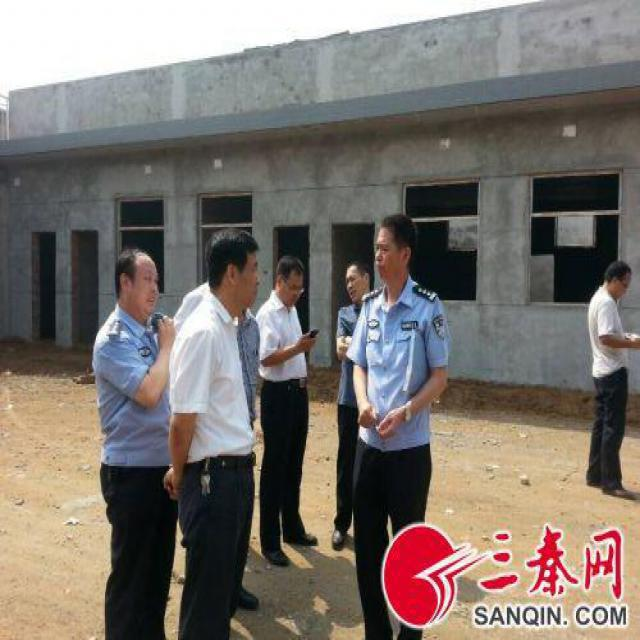head: (366, 204, 420, 290), (209, 228, 260, 315), (113, 243, 159, 317), (271, 250, 308, 307), (599, 253, 636, 310), (344, 260, 375, 310)
person: (169, 218, 273, 640), (356, 218, 458, 631), (83, 238, 181, 640), (257, 241, 324, 583), (574, 244, 640, 516), (324, 247, 380, 567)
